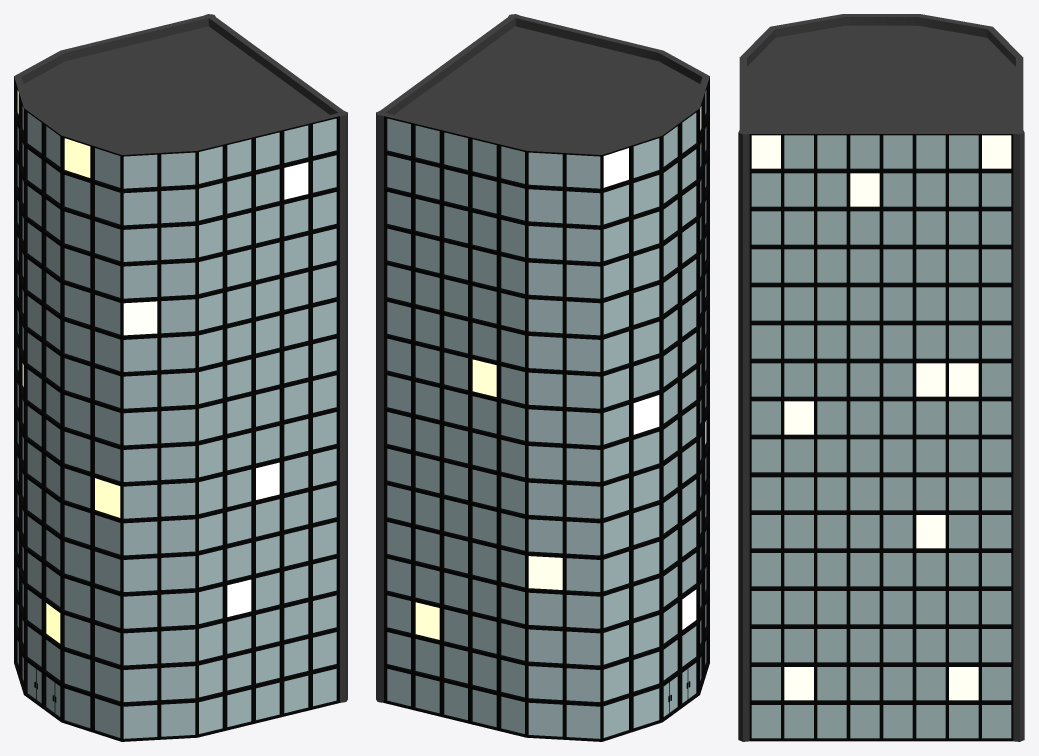
The model's file is building8.fbx.
3 views of the same model, side by side, from view 1: azimuth 30°, elevation 25°; view 2: azimuth 150°, elevation 25°; view 3: azimuth 270°, elevation 25° (orthographic). The views are drawn at different scales.
Visible parts, largest first — view 1: Cube.038; view 2: Cube.038; view 3: Cube.038.
Boxes of the visible parts, x1,y1,x2,y2 form: Cube.038: (14, 14, 347, 741); Cube.038: (376, 14, 709, 741); Cube.038: (738, 14, 1024, 741).
Size of the model in its own units: 4.02 by 9.45 by 4.03.
